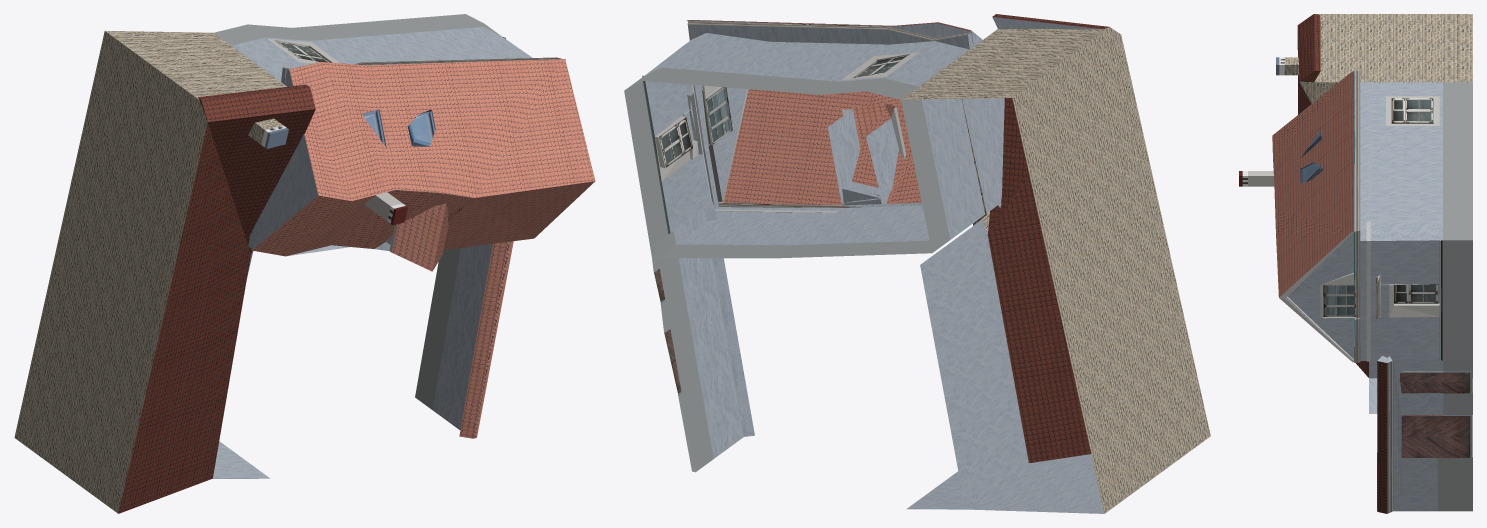
Rendered from Uus_35_2-origo.obj.
3 renders of one model, left to right at view 1: azimuth 30°, elevation 25°; view 2: azimuth 150°, elevation 25°; view 3: azimuth 270°, elevation 25°, orthographic. The views are drawn at different scales.
Parts seen in each view (by area): view 1: Uus_35_2; view 2: Uus_35_2; view 3: Uus_35_2.
Boxes of the visible parts, x1,y1,x2,y2 form: Uus_35_2: (14, 14, 595, 513); Uus_35_2: (624, 14, 1210, 513); Uus_35_2: (1239, 14, 1472, 513).
Size of the model in its own units: 17.62 by 15.5 by 8.89.
